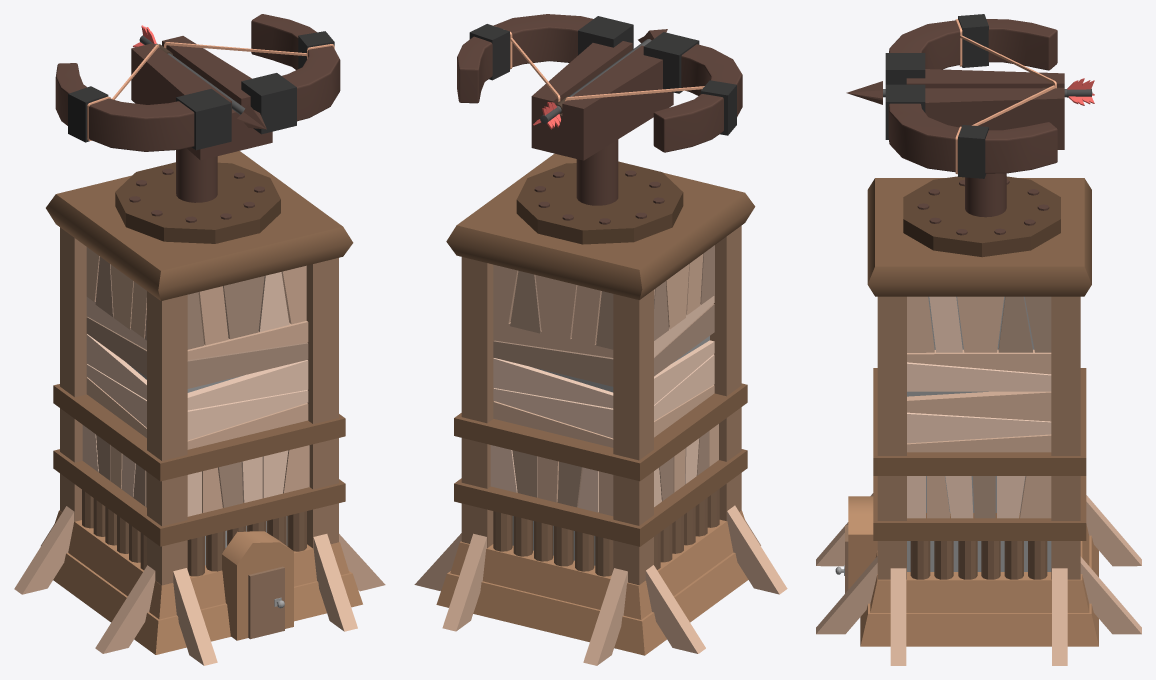
File: CrossbowTower_1.fbx
3 renders of one model, left to right at view 1: azimuth 30°, elevation 25°; view 2: azimuth 150°, elevation 25°; view 3: azimuth 270°, elevation 25°, orthographic.
Visible parts, largest first — view 1: polySurface305, polySurface279, polySurface306; view 2: polySurface305, polySurface279, polySurface306; view 3: polySurface305, polySurface279, polySurface306.
Part boxes in pixels (x1,y1,x2,y2): polySurface305: (14,151,385,665); polySurface279: (55,14,340,160); polySurface306: (115,148,280,243); polySurface305: (414,153,787,665); polySurface279: (457,14,742,160); polySurface306: (516,139,683,244); polySurface305: (816,178,1141,665); polySurface279: (846,14,1094,178); polySurface306: (903,173,1060,257).
Bounding box in the file's own units: 1.45 × 2.56 × 1.45.
